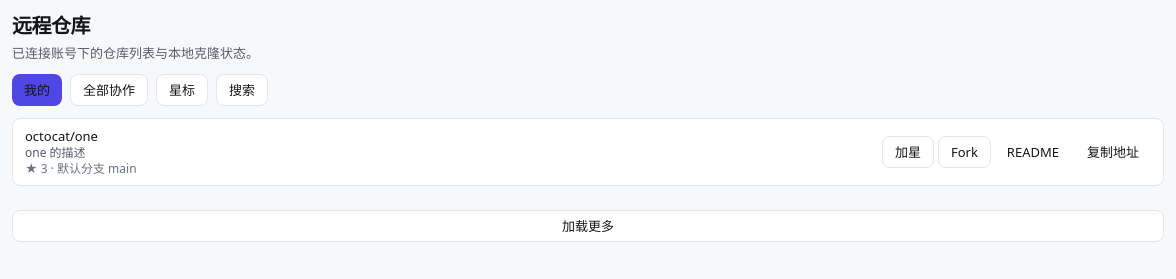
Scenario: GitHubReposPage — 列表与分页 › nextPage 存在时显示加载更多，点击追加下一页
The width and height of the screenshot is (1176, 279).
Click the button with test id "repos-load-more" at (588, 226), box [12,210,1164,242]
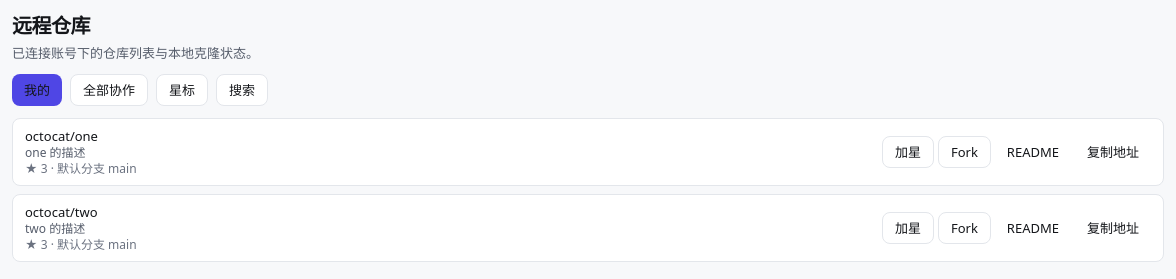
Result: the number of list items with test id "repos-item" is 2 at [12,118,1164,186]; [12,194,1164,262]
Result: the button with test id "repos-load-more" is gone
